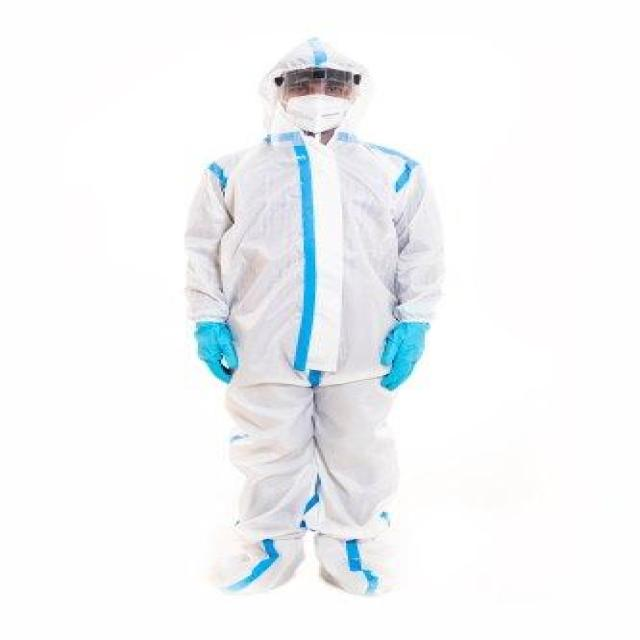Coverall: (144, 19, 511, 534)
Gloves: (156, 310, 308, 399), (362, 314, 504, 391)
Mask: (269, 92, 359, 129)
